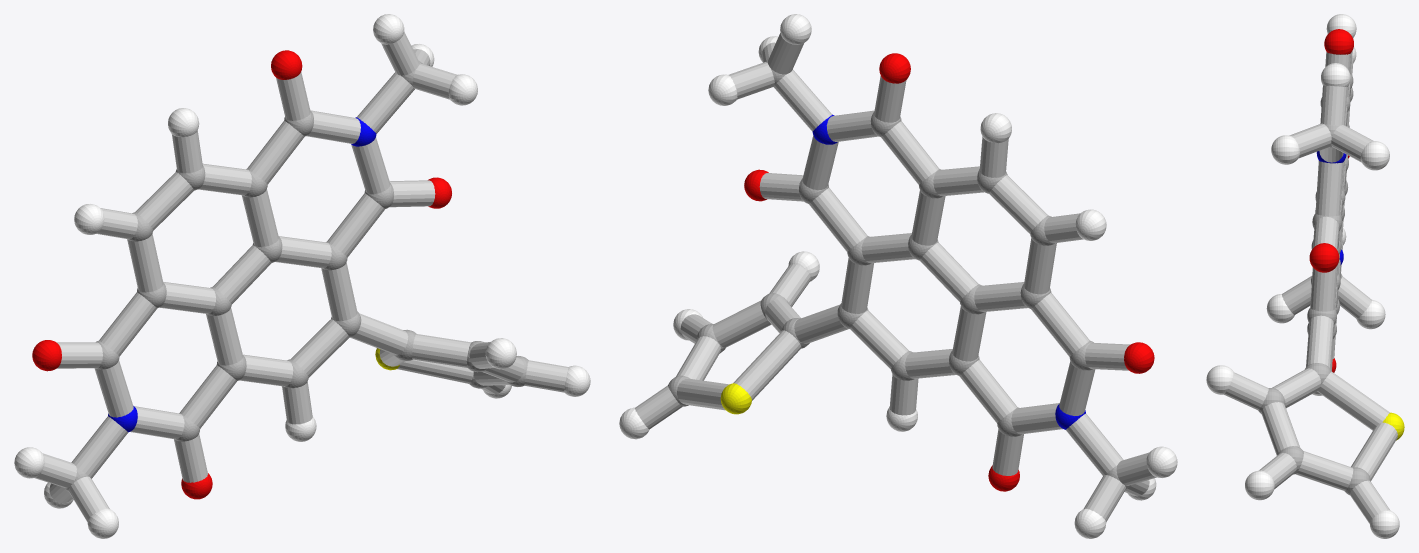
The model's file is Dimethyl_Naphthalene_Dicarboximide_Phi_5_Theta_70_Thiophene.glb.
3 renders of one model, left to right at view 1: azimuth 30°, elevation 25°; view 2: azimuth 150°, elevation 25°; view 3: azimuth 270°, elevation 25°, orthographic. The views are drawn at different scales.
Parts seen in each view (by area): view 1: grp14119, grp7241, grp1, grp12309, grp11585; view 2: grp14119, grp7241, grp1, grp12309, grp13757, grp11585; view 3: grp14119, grp7241, grp1, grp12309, grp13757.
Boxes of the visible parts, x1=… form: grp14119: x1=35, y1=32, x2=568, y2=521; grp7241: x1=14, y1=14, x2=590, y2=538; grp1: x1=64, y1=61, x2=528, y2=491; grp12309: x1=32, y1=50, x2=451, y2=499; grp11585: x1=108, y1=117, x2=376, y2=432; grp14119: x1=635, y1=33, x2=1156, y2=522; grp7241: x1=619, y1=14, x2=1177, y2=538; grp1: x1=668, y1=58, x2=1130, y2=488; grp12309: x1=744, y1=53, x2=1154, y2=491; grp13757: x1=720, y1=383, x2=751, y2=414; grp11585: x1=812, y1=114, x2=1085, y2=429; grp14119: x1=1224, y1=38, x2=1397, y2=523; grp7241: x1=1206, y1=14, x2=1399, y2=538; grp1: x1=1258, y1=74, x2=1370, y2=495; grp12309: x1=1309, y1=29, x2=1353, y2=372; grp13757: x1=1382, y1=412, x2=1404, y2=440.
Size of the model in its own units: 11.76 by 9.11 by 3.98.
